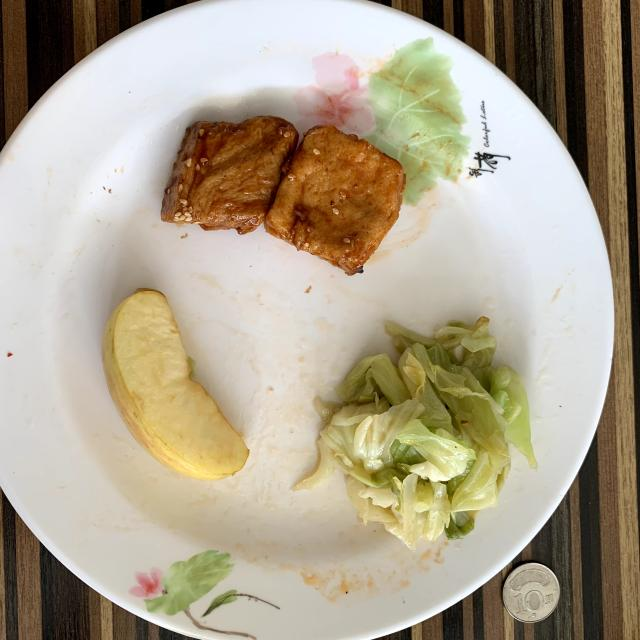apple -sliced-: (102, 289, 249, 480)
cabbage: (292, 318, 536, 549)
coin: (502, 562, 560, 622)
creamy tofu: (161, 116, 406, 275)
